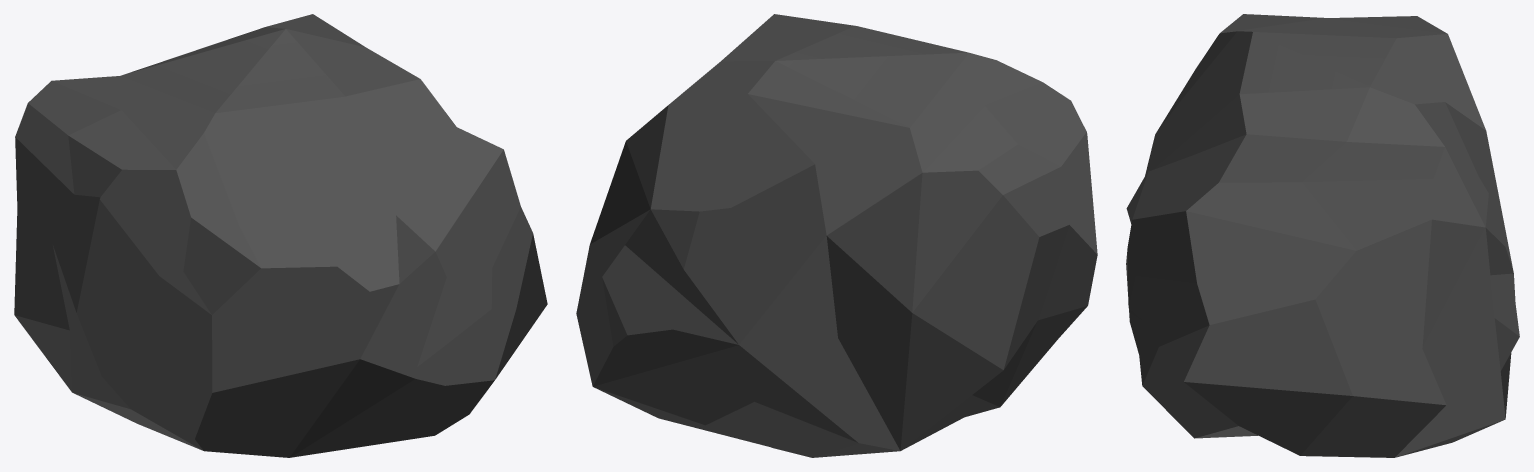
The model's file is stone_1.fbx.
3 renders of one model, left to right at view 1: azimuth 30°, elevation 25°; view 2: azimuth 150°, elevation 25°; view 3: azimuth 270°, elevation 25°, orthographic. The views are drawn at different scales.
Visible parts, largest first — view 1: stone_1; view 2: stone_1; view 3: stone_1.
Part boxes in pixels (box(x1,y1,x2,y2)): stone_1: box(14, 14, 547, 457); stone_1: box(576, 14, 1097, 457); stone_1: box(1126, 14, 1519, 457).
Bounding box in the file's own units: 123 × 95.59 × 101.
